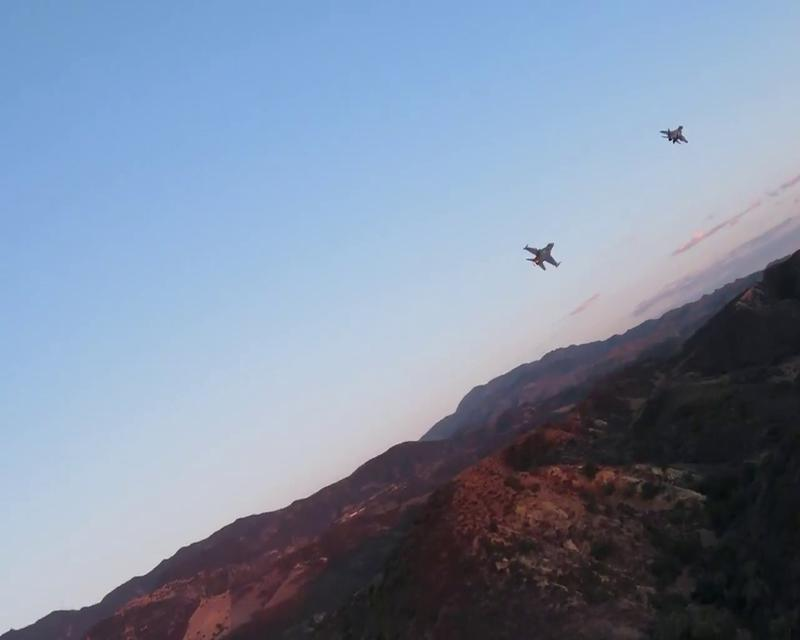UAV: (522, 241, 561, 270), (659, 124, 688, 144)
